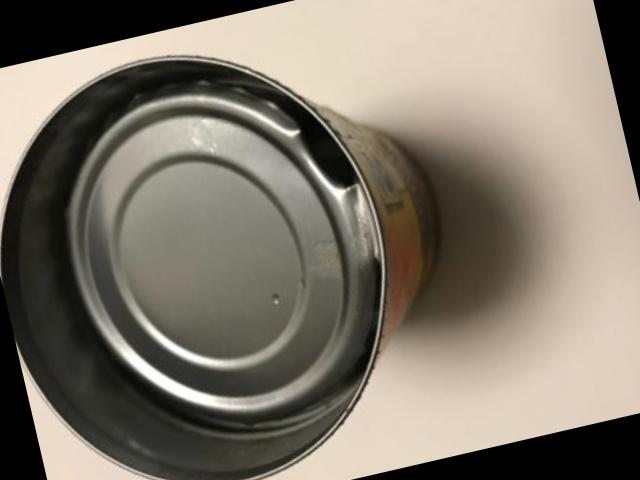metal: (0, 59, 436, 480)
